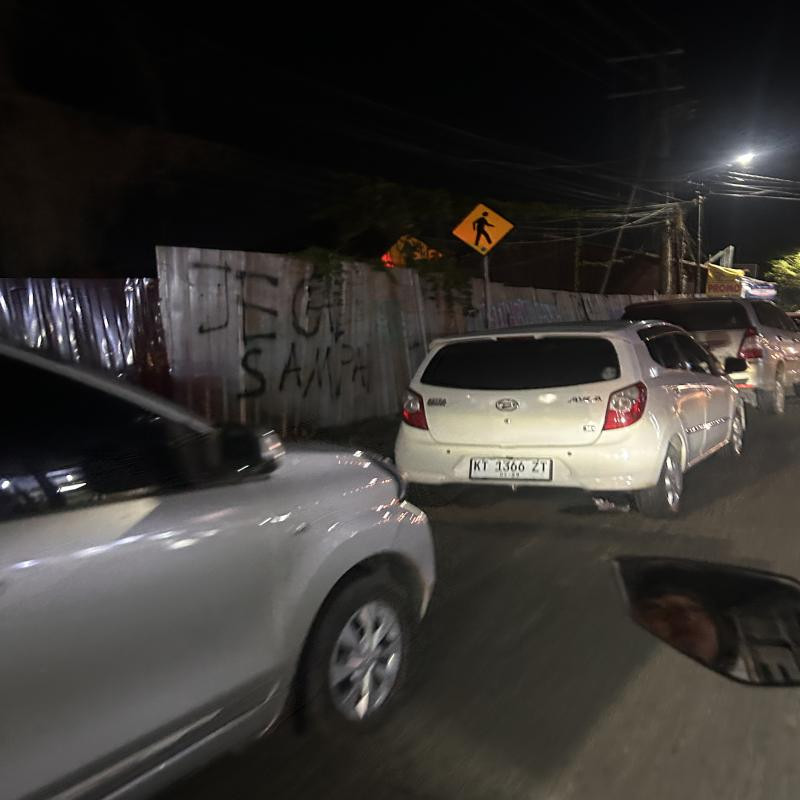license plate on a car: (466, 449, 560, 488)
